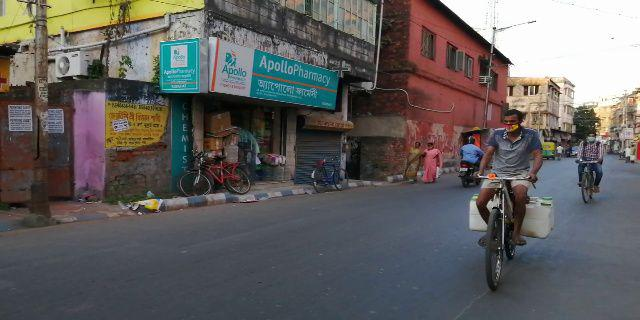Cycle: (468, 110, 545, 297), (173, 149, 252, 197), (571, 126, 605, 209), (306, 153, 349, 196)
Motorbike: (456, 137, 479, 189)
